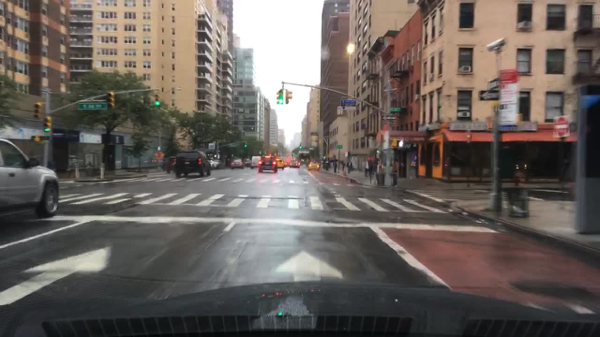car: (0, 138, 60, 217), (173, 149, 212, 177), (257, 154, 277, 172), (230, 156, 244, 171), (164, 157, 177, 173), (250, 154, 261, 170), (308, 161, 320, 171), (277, 159, 286, 171), (289, 159, 301, 168), (208, 158, 216, 169), (242, 157, 252, 165), (283, 158, 288, 167)
person: (391, 158, 400, 188), (331, 156, 337, 174), (364, 161, 369, 177), (368, 161, 373, 176), (347, 160, 352, 174), (341, 160, 345, 172)
traffic light: (32, 102, 41, 120), (106, 91, 115, 109), (284, 88, 293, 104), (276, 88, 285, 104), (43, 116, 52, 132), (154, 94, 162, 106), (396, 140, 405, 149), (36, 134, 43, 144), (390, 138, 396, 148), (297, 142, 303, 150), (243, 140, 248, 148)
traffic sign: (496, 103, 519, 132), (499, 83, 517, 104), (553, 118, 569, 139), (479, 90, 500, 103), (499, 69, 518, 83), (77, 103, 107, 110), (485, 77, 500, 89), (152, 150, 166, 159), (341, 100, 354, 107), (298, 149, 310, 155), (381, 116, 396, 120), (390, 107, 402, 112), (335, 144, 343, 149), (307, 147, 315, 152)
